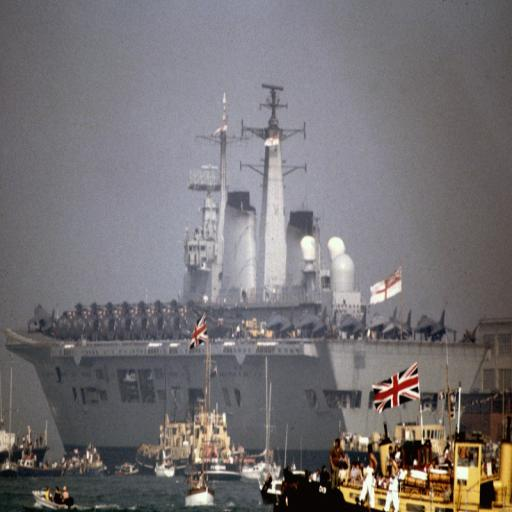Portanaves: (7, 82, 490, 466)
